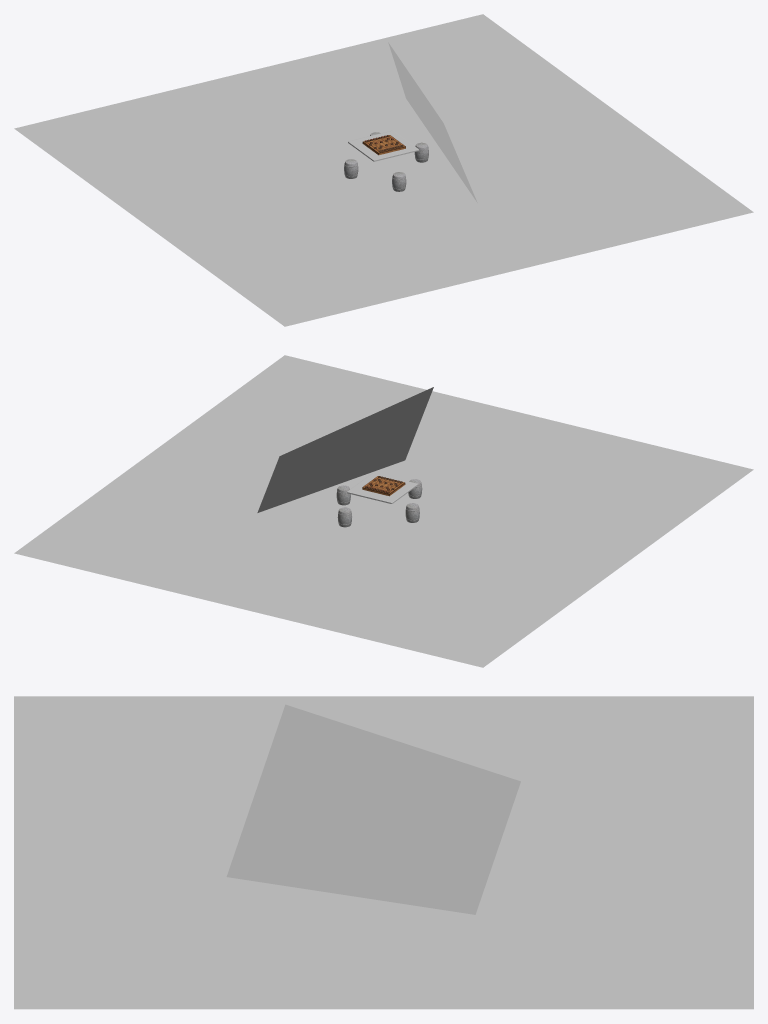
3 views of the same model, one above another, from view 1: azimuth 30°, elevation 25°; view 2: azimuth 150°, elevation 25°; view 3: azimuth 270°, elevation 25° (orthographic). The views are drawn at different scales.
Visible parts, largest first — view 1: 平面, 平面.1, 石头; view 2: 平面, 平面.1, 石头; view 3: 平面, 平面.1.
Boxes of the visible parts, left/top/right/bottom form: 平面: left=14, top=14, right=753, bottom=326; 平面.1: left=388, top=42, right=477, bottom=202; 石头: left=348, top=130, right=418, bottom=161; 平面: left=14, top=355, right=753, bottom=667; 平面.1: left=257, top=387, right=433, bottom=512; 石头: left=347, top=473, right=417, bottom=503; 平面: left=14, top=696, right=753, bottom=1009; 平面.1: left=226, top=704, right=520, bottom=914.
Size of the model in its own units: 7639 by 2451 by 7639.
